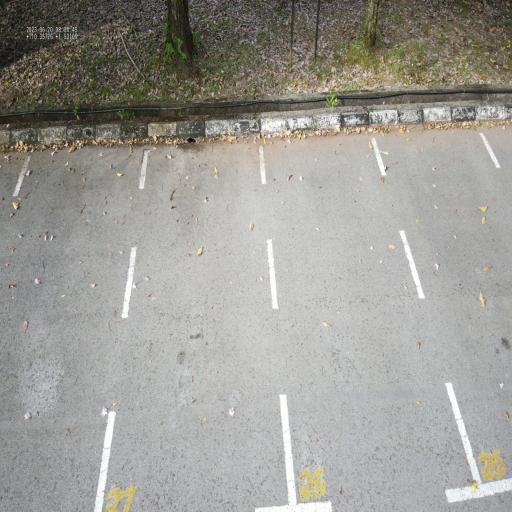Empty: (255, 134, 484, 508), (88, 139, 301, 512)
